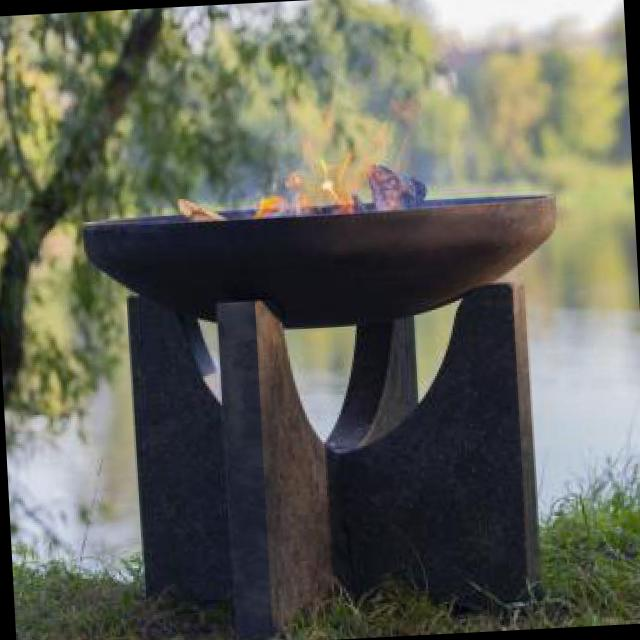Fire: (165, 152, 398, 228)
